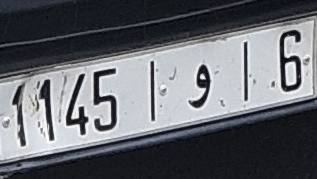1: (37, 78, 58, 143), (10, 82, 28, 149)
4: (64, 71, 90, 138)
5: (91, 67, 120, 132)
6: (278, 28, 304, 93)
waw: (185, 59, 214, 109)
